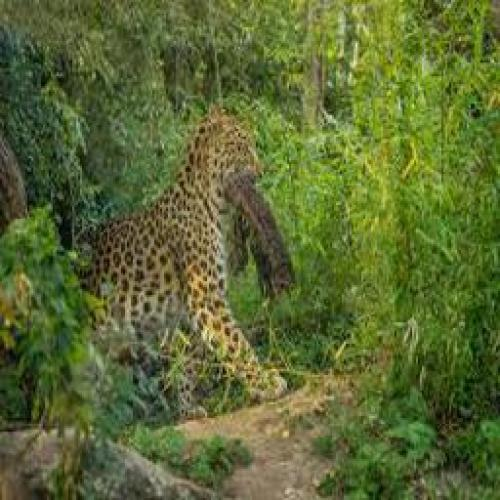amur_leopard-endangered: (69, 103, 291, 404)
